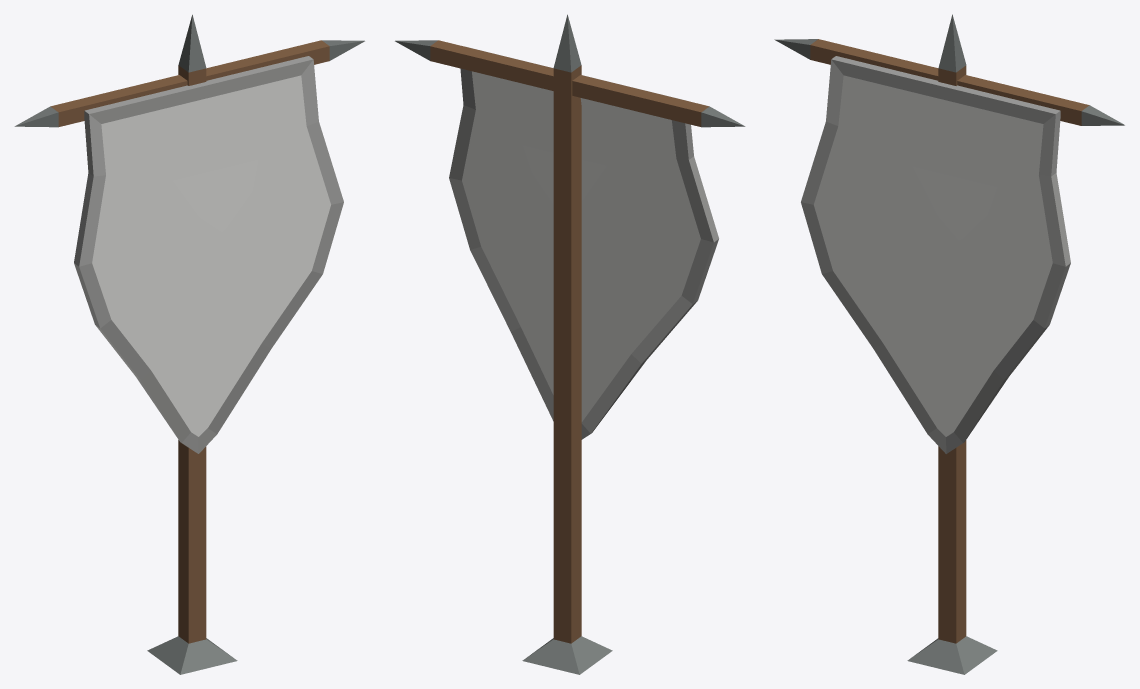
Rendered from Banner_3_White.fbx.
3 renders of one model, left to right at view 1: azimuth 30°, elevation 25°; view 2: azimuth 150°, elevation 25°; view 3: azimuth 330°, elevation 25°, orthographic.
Visible parts, largest first — view 1: Banner_3_White_Part_3, Banner_3_White_Part_4, Banner_3_White_Part_1, Banner_3_White_Part_2; view 2: Banner_3_White_Part_3, Banner_3_White_Part_1, Banner_3_White_Part_4, Banner_3_White_Part_2; view 3: Banner_3_White_Part_3, Banner_3_White_Part_4, Banner_3_White_Part_1, Banner_3_White_Part_2.
Part boxes in pixels (box(x1,y1,x2,y2)): Banner_3_White_Part_3: box(92, 75, 330, 436); Banner_3_White_Part_4: box(74, 56, 343, 453); Banner_3_White_Part_1: box(50, 40, 329, 643); Banner_3_White_Part_2: box(14, 14, 364, 674); Banner_3_White_Part_3: box(462, 71, 700, 421); Banner_3_White_Part_1: box(430, 40, 709, 643); Banner_3_White_Part_4: box(449, 47, 718, 439); Banner_3_White_Part_2: box(395, 14, 745, 674); Banner_3_White_Part_3: box(814, 75, 1052, 436); Banner_3_White_Part_4: box(801, 56, 1070, 453); Banner_3_White_Part_1: box(810, 39, 1089, 643); Banner_3_White_Part_2: box(774, 14, 1124, 674).
Size of the model in its own units: 172 by 300 by 30.33.
